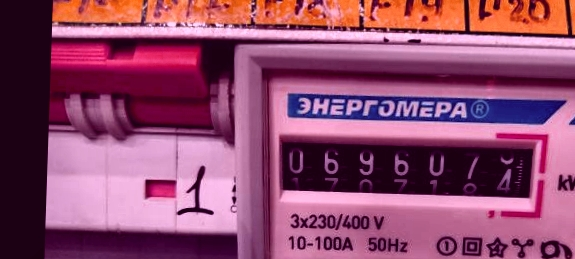0: (284, 144, 306, 175), (426, 148, 446, 177)
4: (492, 165, 512, 195)
6: (390, 147, 411, 178), (320, 145, 340, 175)
7: (461, 148, 480, 179)
9: (355, 146, 376, 176)
screen: (265, 117, 550, 219)
